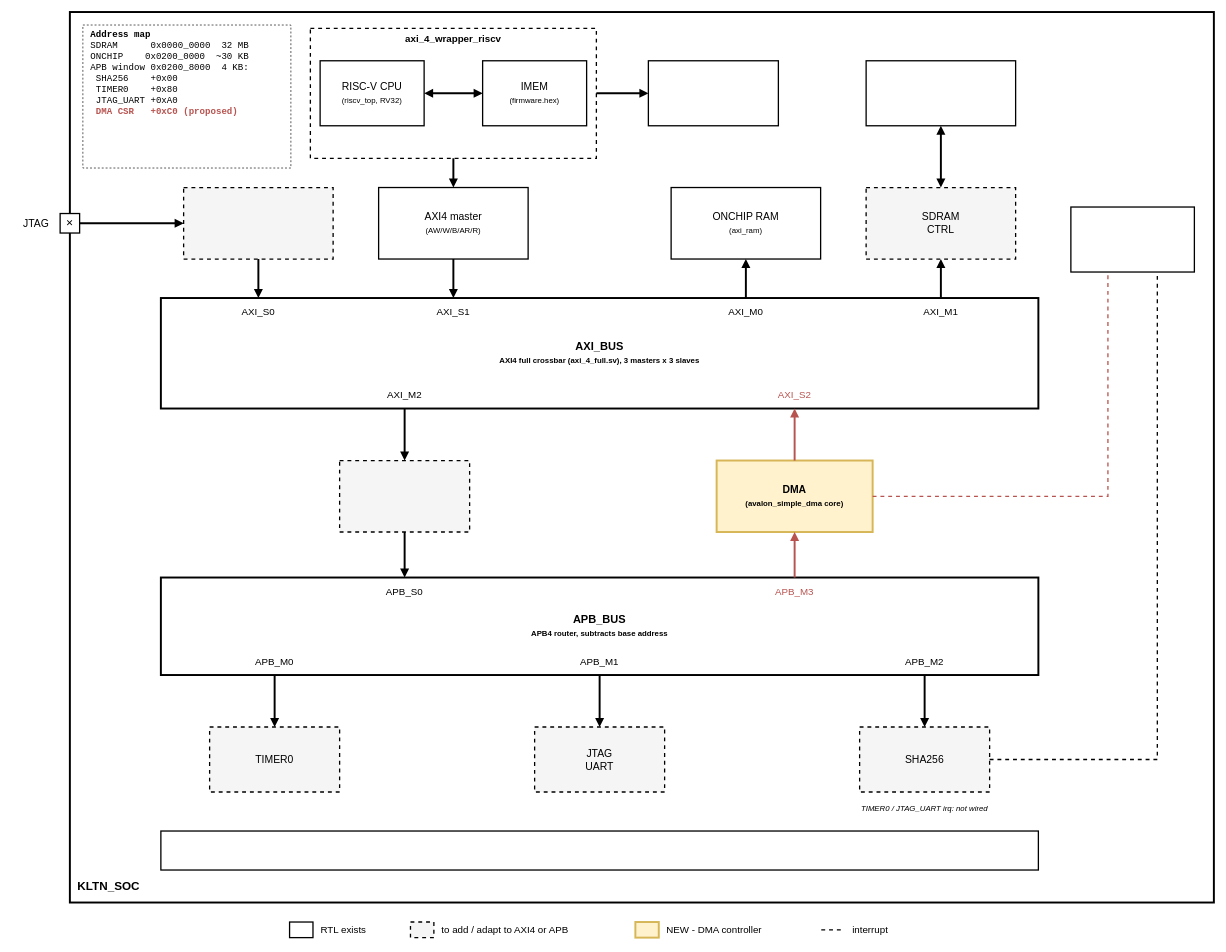
The diagram is 1226 pixels wide and 952 high, and some of its shapes have lost their labels. The shapes that lost their labels are listed below. From the top down, each one's centre as x and y in pixels, then its label:
point (713, 93): DEBUG out_pc, out_alu_result
point (940, 93): SDRAM chip MT48LC4M32B2, 16-bit
point (258, 223): JTAG-to-AXI Master
point (1132, 239): IRQ EXPORT sha_irq, dma_irq
point (404, 496): AXI2APB
point (599, 850): CLK_0 (50 MHz) | RESET_N → all blocks
